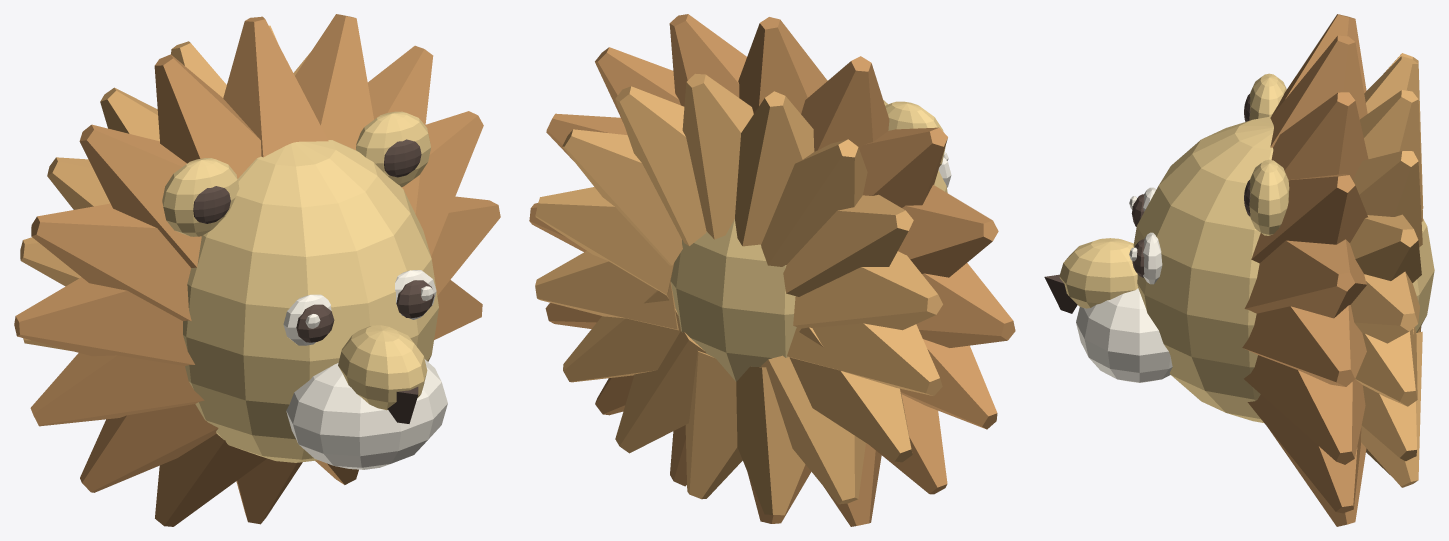
Rendered from k_lion.fbx.
The picture shows the model from 3 angles, left to right: view 1: azimuth 30°, elevation 25°; view 2: azimuth 150°, elevation 25°; view 3: azimuth 270°, elevation 25°; orthographic projection. The views are drawn at different scales.
Visible parts, largest first — view 1: Mask; view 2: Mask; view 3: Mask.
Part boxes in pixels (x1=…): Mask: x1=14, y1=14, x2=500, y2=526; Mask: x1=529, y1=14, x2=1015, y2=526; Mask: x1=1044, y1=14, x2=1434, y2=526.
Size of the model in its own units: 0.4036 by 0.4035 by 0.3069.
